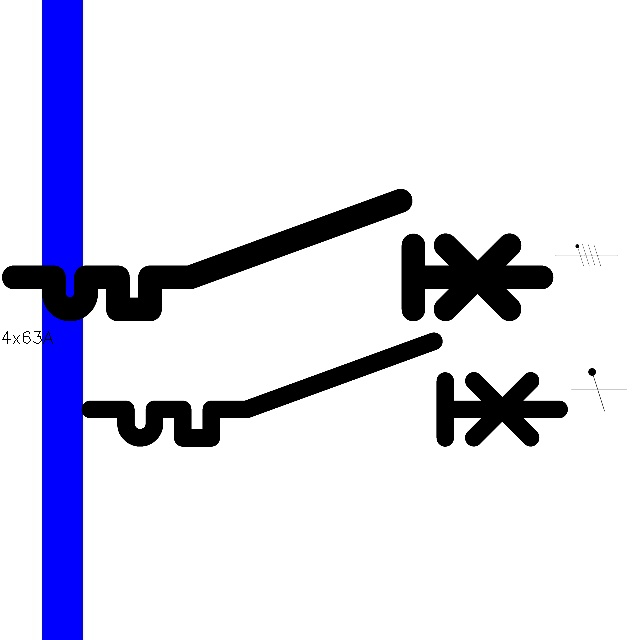interruptor_termomagnetico: (0, 187, 555, 323), (78, 329, 571, 450)
